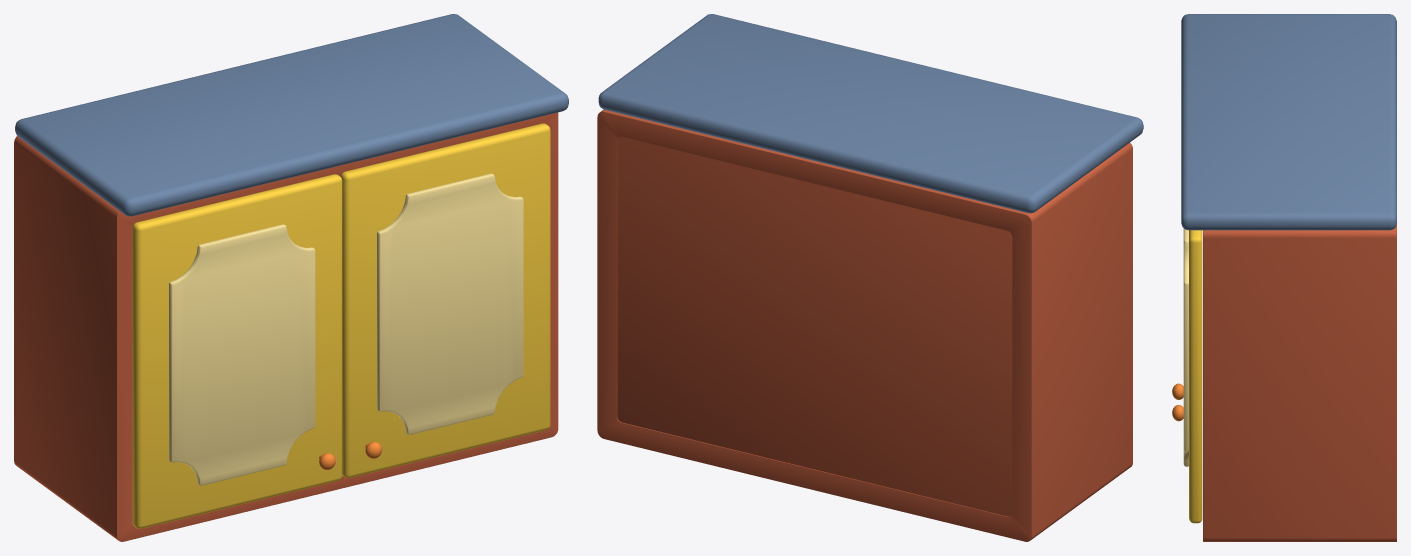
Rendered from armario_parede_2portas_classica.glb.
3 renders of one model, left to right at view 1: azimuth 30°, elevation 25°; view 2: azimuth 150°, elevation 25°; view 3: azimuth 270°, elevation 25°, orthographic. The views are drawn at different scales.
Visible parts, largest first — view 1: armario_parede_2portas_classica, porta_1, porta_2; view 2: armario_parede_2portas_classica; view 3: armario_parede_2portas_classica, porta_2.
Boxes of the visible parts, x1,y1,x2,y2 form: armario_parede_2portas_classica: [14, 14, 568, 541]; porta_1: [132, 174, 342, 528]; porta_2: [340, 123, 550, 478]; armario_parede_2portas_classica: [597, 14, 1143, 541]; armario_parede_2portas_classica: [1181, 14, 1396, 541]; porta_2: [1172, 228, 1202, 523].
Size of the model in its own units: 0.798 by 0.6 by 0.3711.
Materials: 1 (1 with a texture image).
